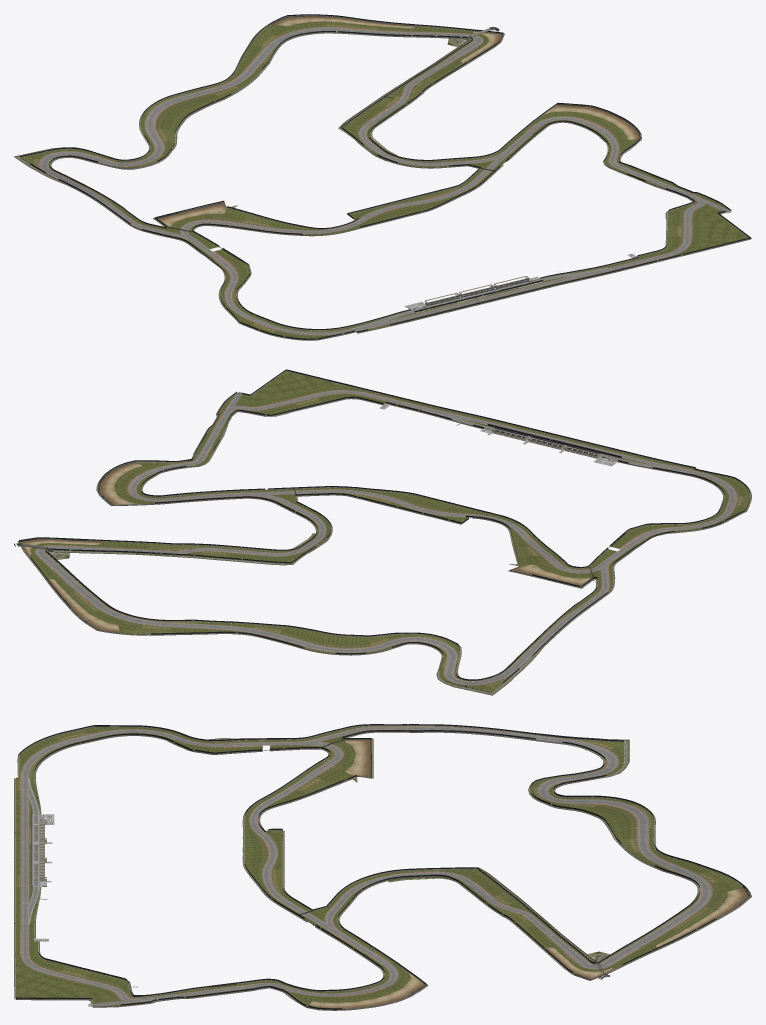
Rendered from level_collision.obj.
The picture shows the model from 3 angles, top to bottom: view 1: azimuth 30°, elevation 25°; view 2: azimuth 150°, elevation 25°; view 3: azimuth 270°, elevation 25°; orthographic projection. The views are drawn at different scales.
Parts seen in each view (by area): view 1: GRASSA.001, ROADA.001, FENCEA.001, CMWLLA.001, GRASSRUF.001, GRASSB.001, GRVL.001, GRDRA.001, RGEDGE.001, GRASSAX.001, GRAVTRANS.001, ROADSTRP.001 (+1 smaller); view 2: GRASSA.001, ROADA.001, FENCEA.001, CMWLLA.001, GRASSRUF.001, GRASSB.001, GRVL.001, GRDRA.001, RGEDGE.001, GRASSAX.001, GRAVTRANS.001, RMBLA.001 (+1 smaller); view 3: GRASSA.001, ROADA.001, FENCEA.001, CMWLLA.001, GRASSRUF.001, GRASSB.001, GRVL.001, GRDRA.001, RGEDGE.001, GRASSAX.001, GRAVTRANS.001, ROADSTRP.001 (+3 smaller).
Boxes of the visible parts, x1=… form: GRASSA.001: x1=21, y1=22, x2=729, y2=339; ROADA.001: x1=40, y1=27, x2=729, y2=335; FENCEA.001: x1=20, y1=14, x2=750, y2=339; CMWLLA.001: x1=20, y1=15, x2=750, y2=340; GRASSRUF.001: x1=14, y1=32, x2=751, y2=340; GRASSB.001: x1=22, y1=23, x2=684, y2=333; GRVL.001: x1=157, y1=16, x2=640, y2=226; GRDRA.001: x1=14, y1=17, x2=751, y2=340; RGEDGE.001: x1=39, y1=27, x2=704, y2=335; GRASSAX.001: x1=681, y1=207, x2=748, y2=255; GRAVTRANS.001: x1=168, y1=21, x2=638, y2=227; ROADSTRP.001: x1=118, y1=170, x2=731, y2=328; GRASSA.001: x1=30, y1=387, x2=749, y2=691; ROADA.001: x1=35, y1=390, x2=736, y2=684; FENCEA.001: x1=19, y1=369, x2=750, y2=681; CMWLLA.001: x1=14, y1=370, x2=750, y2=692; GRASSRUF.001: x1=18, y1=384, x2=751, y2=695; GRASSB.001: x1=70, y1=397, x2=750, y2=692; GRVL.001: x1=19, y1=462, x2=590, y2=632; GRDRA.001: x1=17, y1=394, x2=751, y2=695; RGEDGE.001: x1=35, y1=390, x2=736, y2=685; GRASSAX.001: x1=238, y1=371, x2=364, y2=402; GRAVTRANS.001: x1=29, y1=462, x2=592, y2=633; RMBLA.001: x1=44, y1=393, x2=736, y2=681; GRASSA.001: x1=16, y1=726, x2=741, y2=1006; ROADA.001: x1=21, y1=726, x2=711, y2=1006; FENCEA.001: x1=15, y1=724, x2=750, y2=1009; CMWLLA.001: x1=15, y1=725, x2=750, y2=1009; GRASSRUF.001: x1=14, y1=725, x2=751, y2=1010; GRASSB.001: x1=16, y1=726, x2=737, y2=994; GRVL.001: x1=309, y1=740, x2=749, y2=1009; GRDRA.001: x1=14, y1=725, x2=751, y2=1010; RGEDGE.001: x1=20, y1=726, x2=711, y2=998; GRASSAX.001: x1=16, y1=957, x2=111, y2=1003; GRAVTRANS.001: x1=306, y1=740, x2=742, y2=1006; ROADSTRP.001: x1=21, y1=727, x2=407, y2=1006.
Size of the model in its own units: 942 by 47.83 by 1048.
